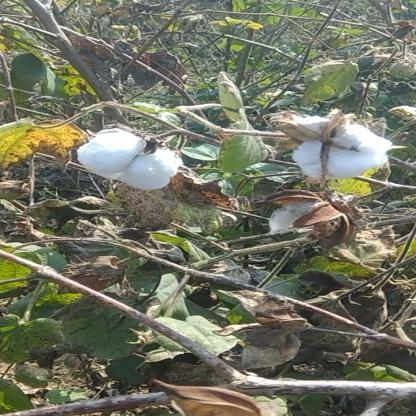cotton_ready: (270, 99, 388, 184), (84, 131, 198, 191)
